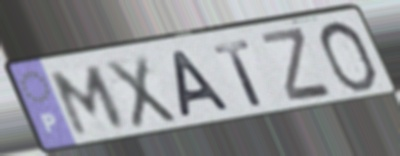A: (170, 47, 235, 122)
M: (48, 63, 129, 139)
O: (316, 18, 380, 95)
T: (210, 37, 268, 109)
X: (101, 52, 181, 132)
Z: (257, 25, 336, 104)
